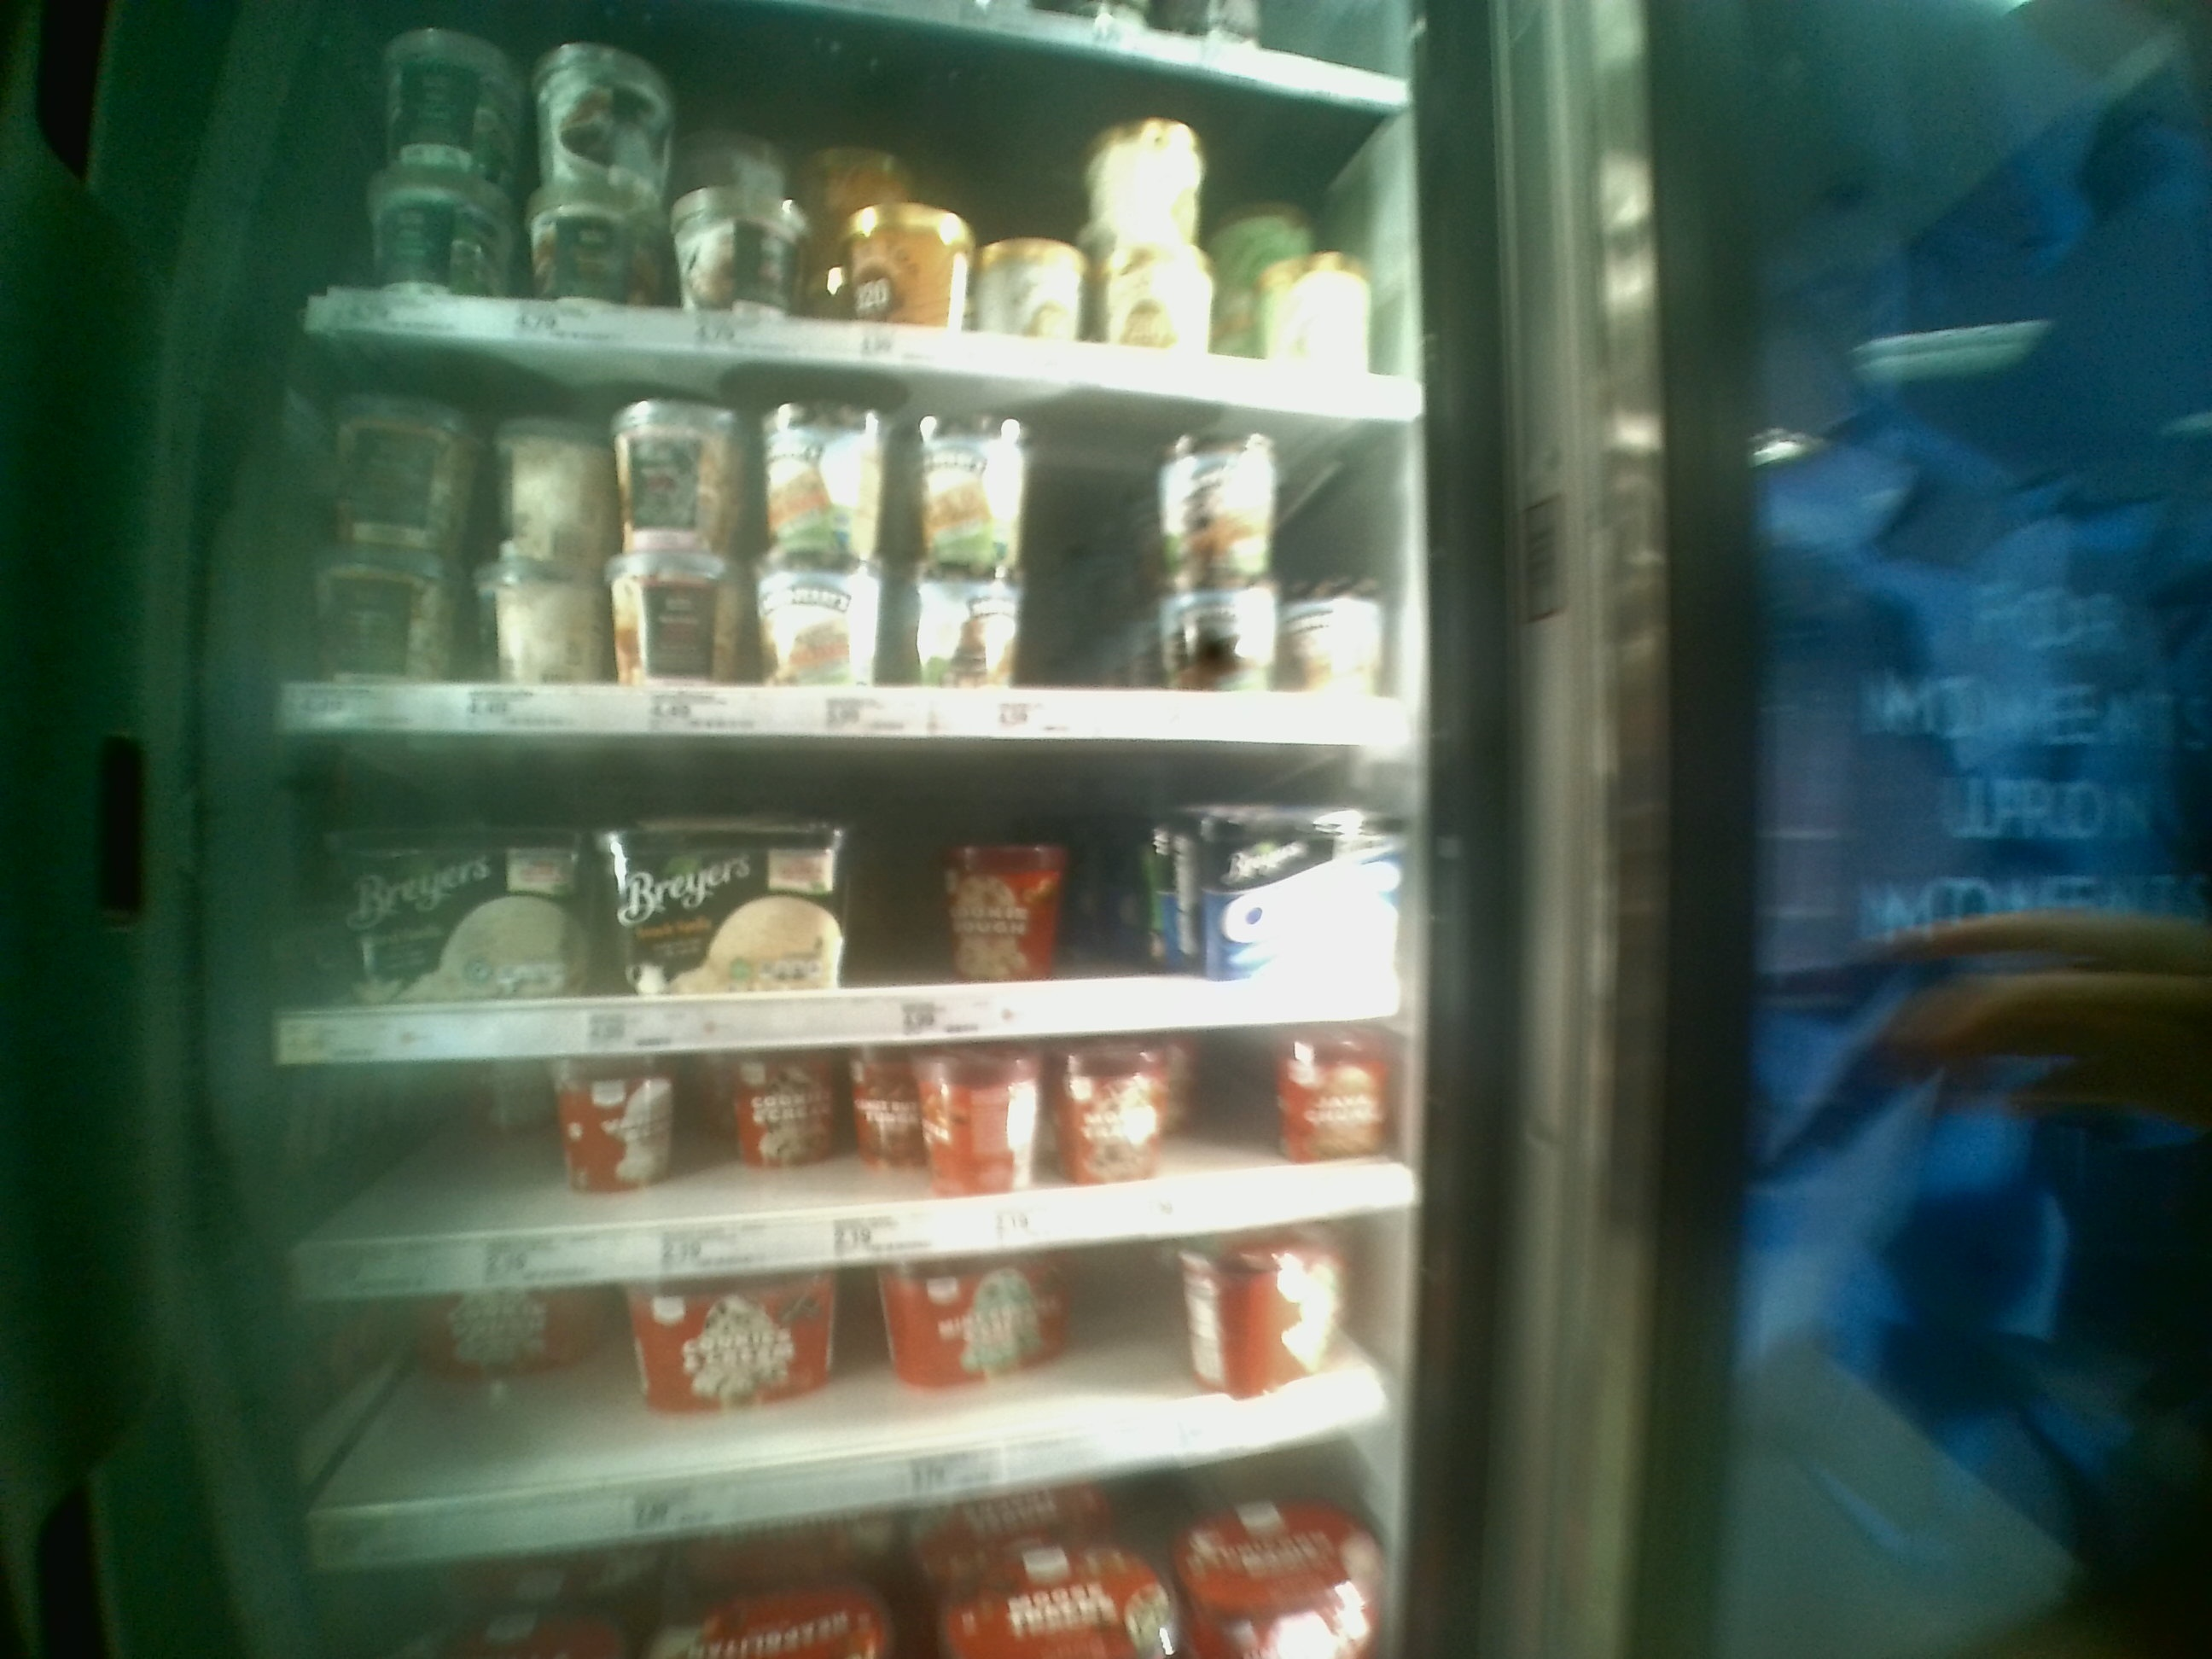ice-cream-shelf: (282, 730, 1400, 1047)
